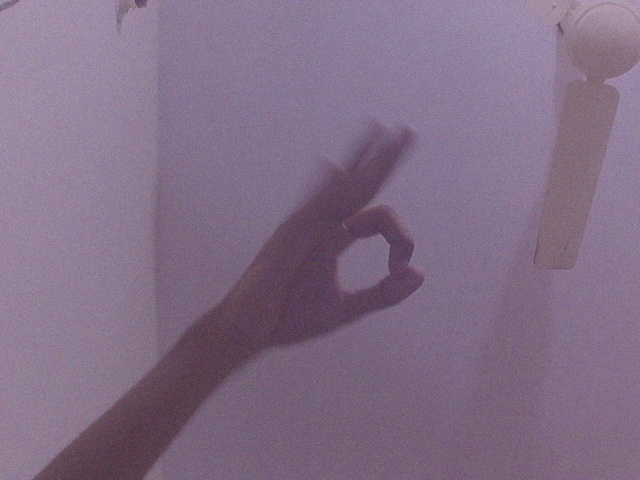hand: (215, 111, 438, 363)
